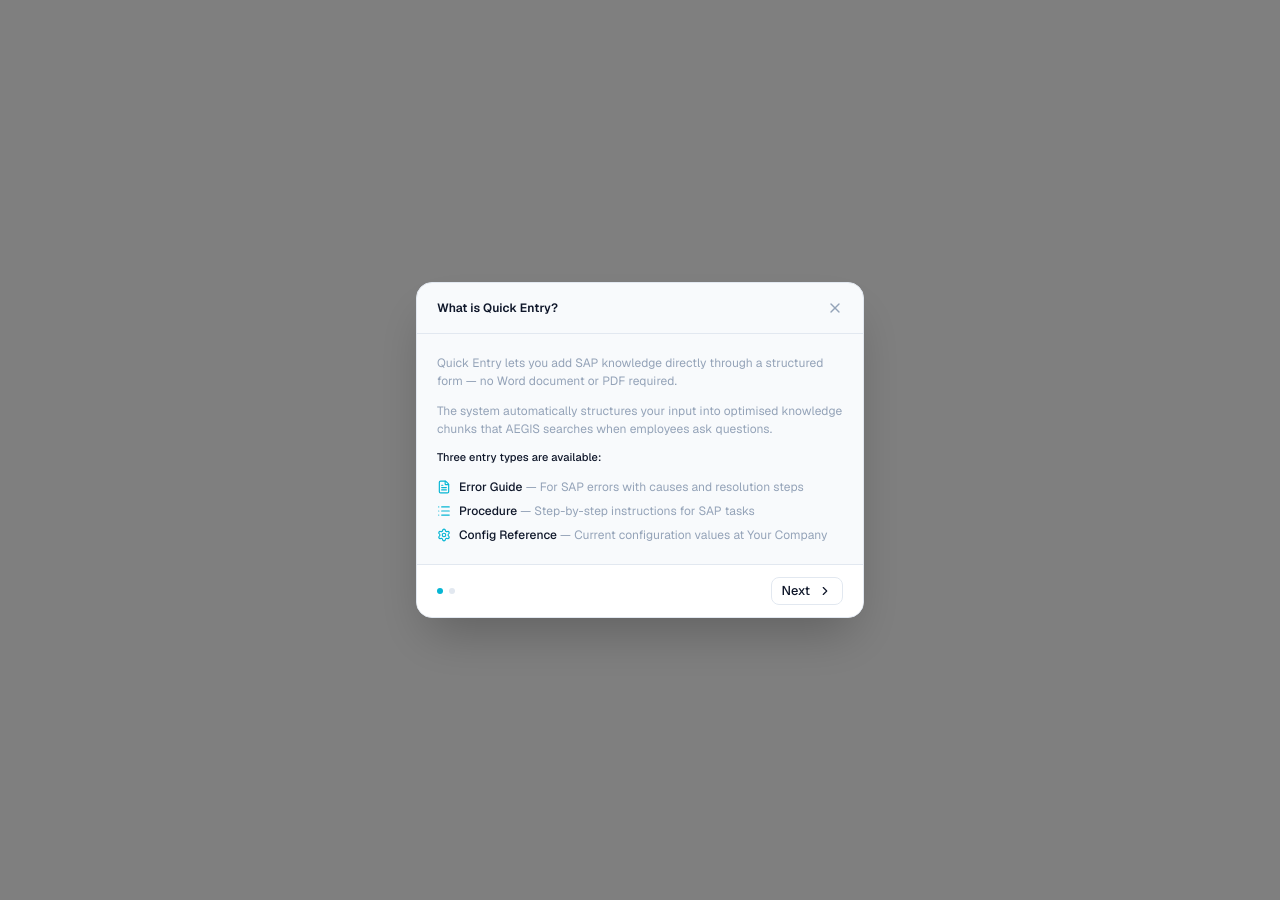
QuickEntryOnboardingModal › goes back to the previous step
Click the button "Next": point(807, 591) [770,577,843,605]
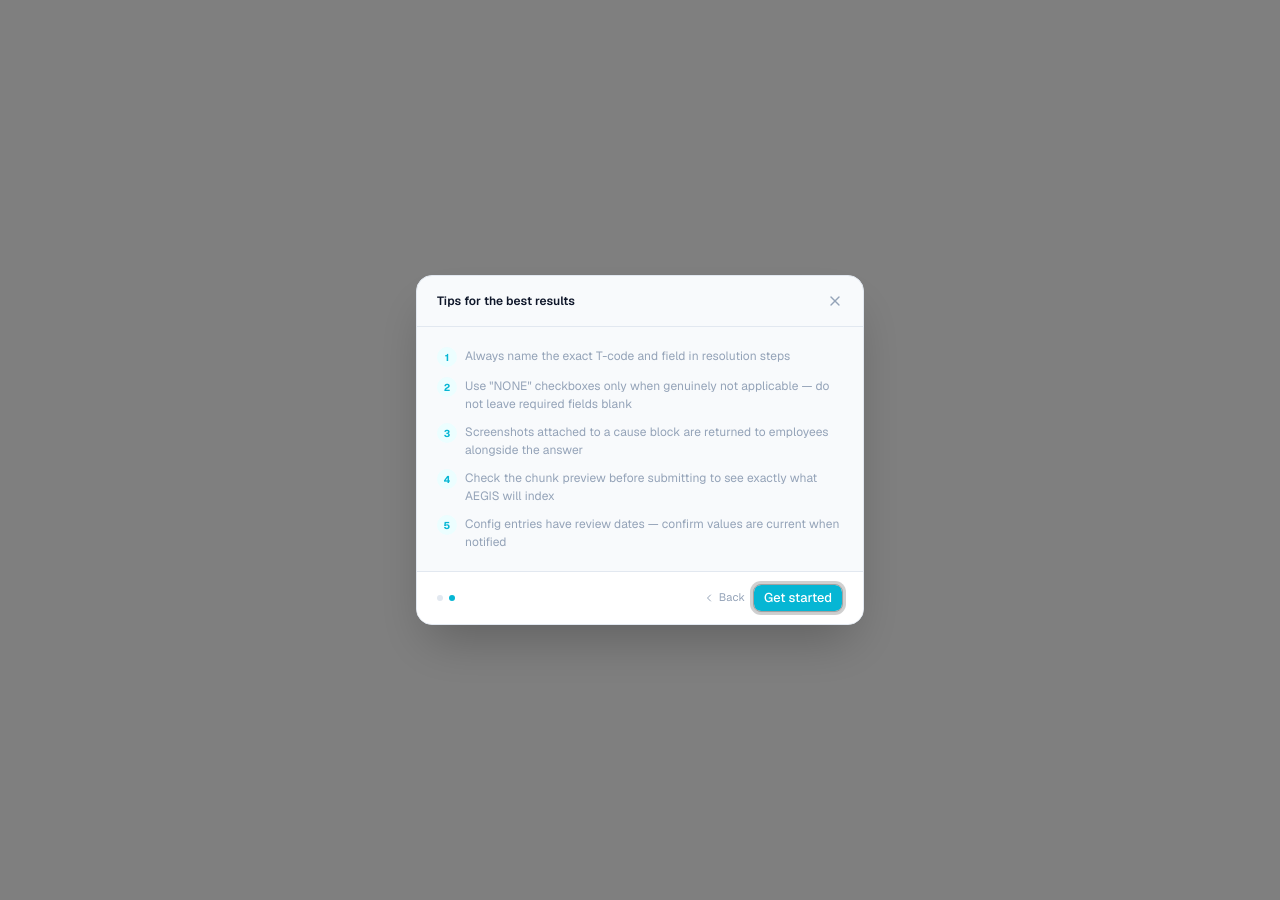
Click the button "Back": point(724, 598) [703,590,745,606]
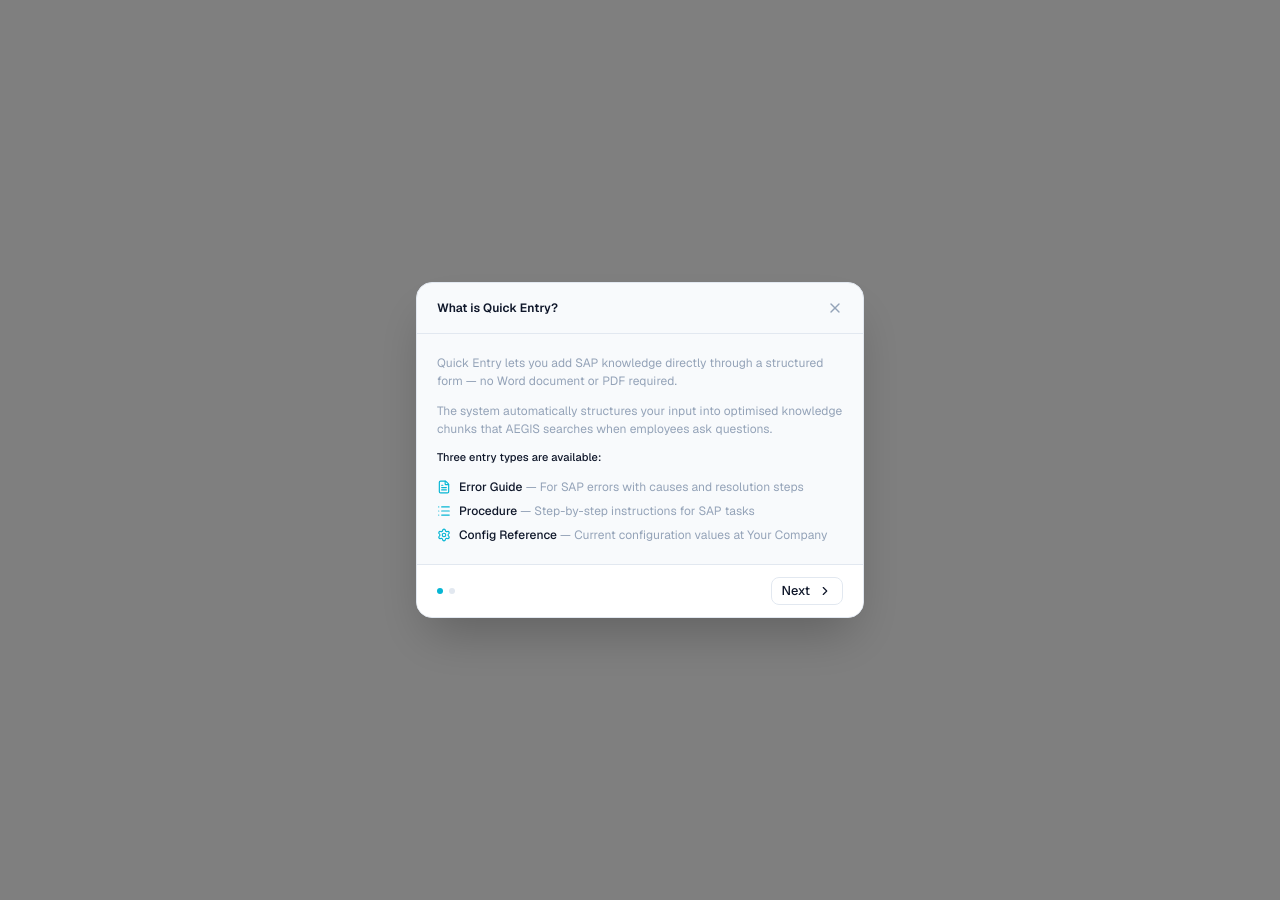
Check: the text "What is Quick Entry?" is shown, box [437,299,558,317]
